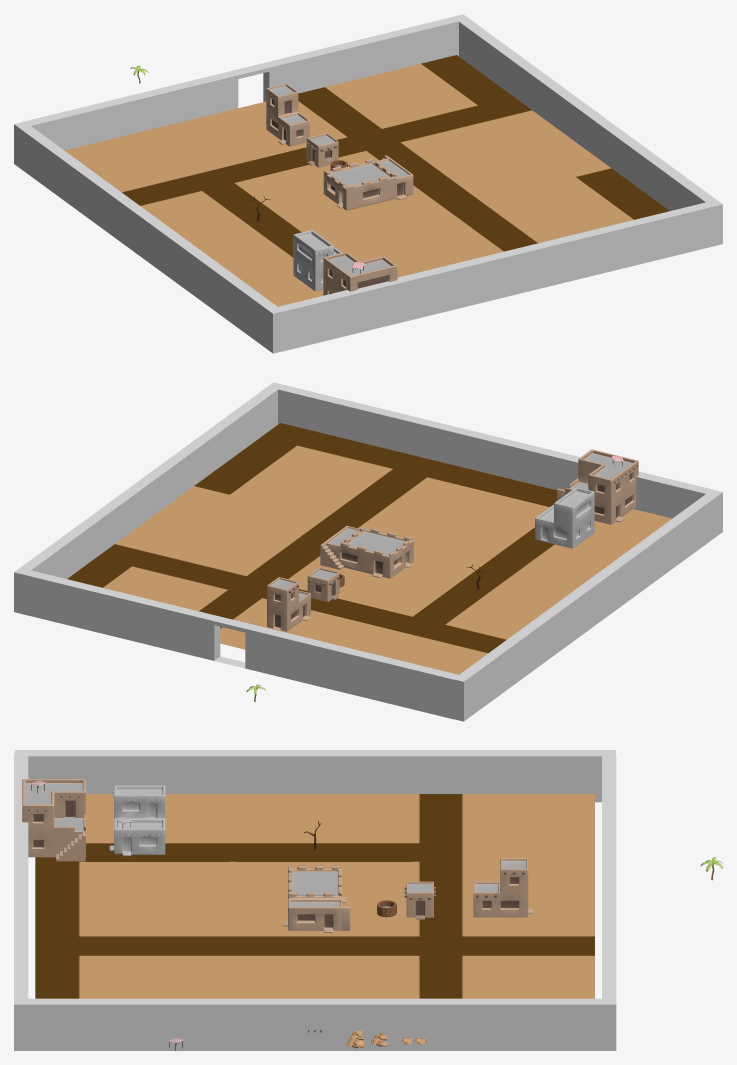
File: Desert.fbx
3 renders of one model, top to bottom at view 1: azimuth 30°, elevation 25°; view 2: azimuth 150°, elevation 25°; view 3: azimuth 270°, elevation 25°, orthographic. The views are drawn at different scales.
Parts seen in each view (by area): view 1: Plane.006, Cube.222, Cube.223, Cube.226, Cube.225, Cube.280, Cube.273, Cube.224, Cube.246, Cube.221; view 2: Plane.006, Cube.223, Cube.222, Cube.226, Cube.225, Cube.280, Cube.273, Cube.246, Cube.224, Cube.221; view 3: Plane.006, Cube.225, Cube.226, Cube.273, Cube.280, Cube.246, Cube.223, Cube.222, Cube.224, Cube.221.
Part boxes in pixels (<box>): Plane.006: <box>65,55,669,306</box>; Cube.222: <box>277,202,713,351</box>; Cube.223: <box>23,17,459,150</box>; Cube.226: <box>14,121,282,353</box>; Cube.225: <box>453,14,722,246</box>; Cube.280: <box>323,155,413,210</box>; Cube.273: <box>323,252,397,295</box>; Cube.224: <box>266,83,309,146</box>; Cube.246: <box>293,230,341,291</box>; Cube.221: <box>306,133,338,167</box>; Plane.006: <box>67,423,671,674</box>; Cube.223: <box>23,570,459,719</box>; Cube.222: <box>277,385,713,518</box>; Cube.226: <box>453,489,722,721</box>; Cube.225: <box>14,382,283,614</box>; Cube.280: <box>320,526,413,578</box>; Cube.273: <box>557,449,638,524</box>; Cube.246: <box>535,487,594,548</box>; Cube.224: <box>267,577,310,631</box>; Cube.221: <box>307,567,339,601</box>; Plane.006: <box>35,794,594,998</box>; Cube.225: <box>14,998,616,1050</box>; Cube.226: <box>14,750,615,802</box>; Cube.273: <box>22,779,85,861</box>; Cube.280: <box>283,865,350,932</box>; Cube.246: <box>109,785,165,856</box>; Cube.223: <box>602,755,616,999</box>; Cube.222: <box>14,755,28,999</box>; Cube.224: <box>473,858,532,917</box>; Cube.221: <box>404,881,435,919</box>.
Bounding box in the file's own units: 157 × 18.74 × 177.
